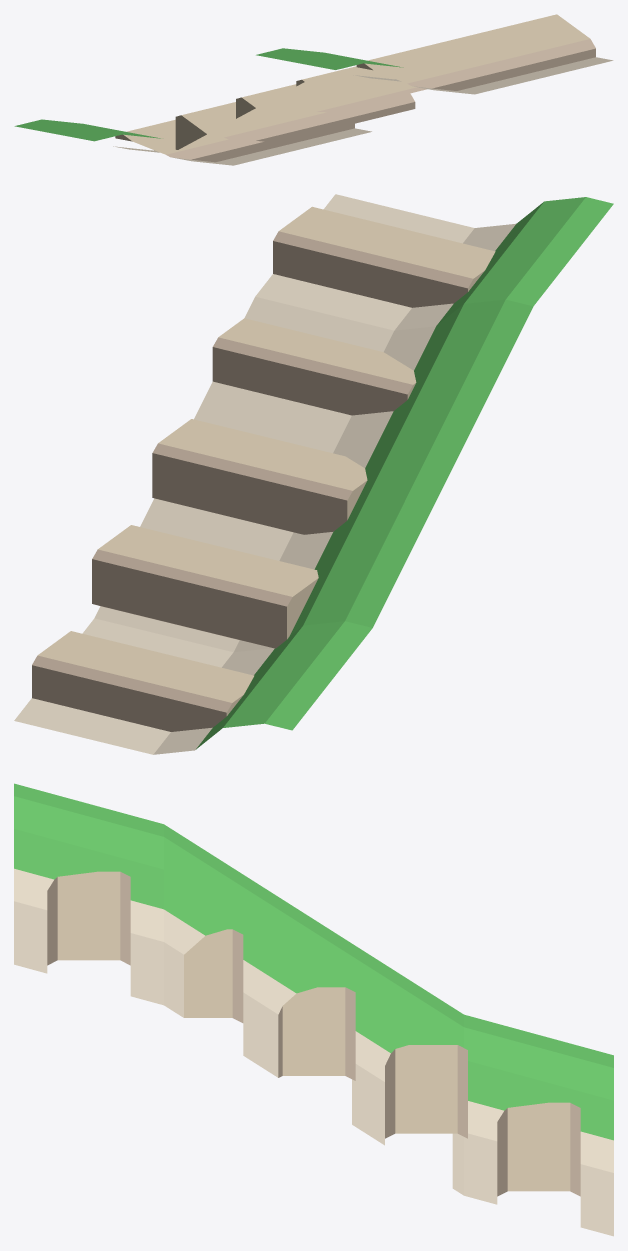
Rendered from Hilly_Terrain_Path_Hill_Sharp_Steps_Side.glb.
3 views of the same model, one above another, from view 1: azimuth 30°, elevation 25°; view 2: azimuth 150°, elevation 25°; view 3: azimuth 270°, elevation 25° (orthographic). The views are drawn at different scales.
Parts seen in each view (by area): view 1: Hilly_Terrain_Path_Hill_Sharp_Steps_Side; view 2: Hilly_Terrain_Path_Hill_Sharp_Steps_Side; view 3: Hilly_Terrain_Path_Hill_Sharp_Steps_Side.
Part boxes in pixels (box(x1,y1,x2,y2)): Hilly_Terrain_Path_Hill_Sharp_Steps_Side: box(14, 14, 613, 165); Hilly_Terrain_Path_Hill_Sharp_Steps_Side: box(14, 194, 613, 754); Hilly_Terrain_Path_Hill_Sharp_Steps_Side: box(14, 783, 613, 1236).
Size of the model in its own units: 1 by 1.2 by 2.
